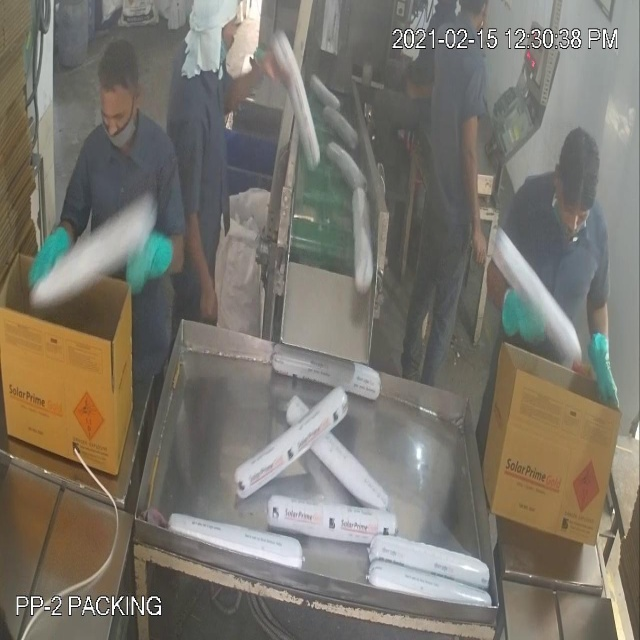Guantes: (479, 248, 550, 359), (581, 307, 630, 427), (22, 204, 75, 296), (119, 219, 175, 303)
Sin_guantes: (455, 96, 496, 279), (220, 41, 286, 131), (183, 199, 226, 329)
